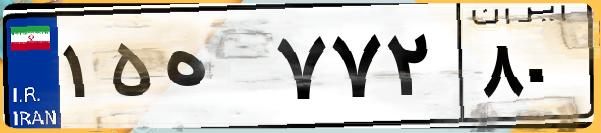0: (525, 38, 570, 115)
1: (57, 26, 110, 100)
2: (385, 28, 445, 110)
5: (110, 28, 158, 98)
7: (270, 28, 330, 110), (330, 28, 385, 110)
8: (475, 38, 525, 113)
ه: (158, 20, 270, 120)
